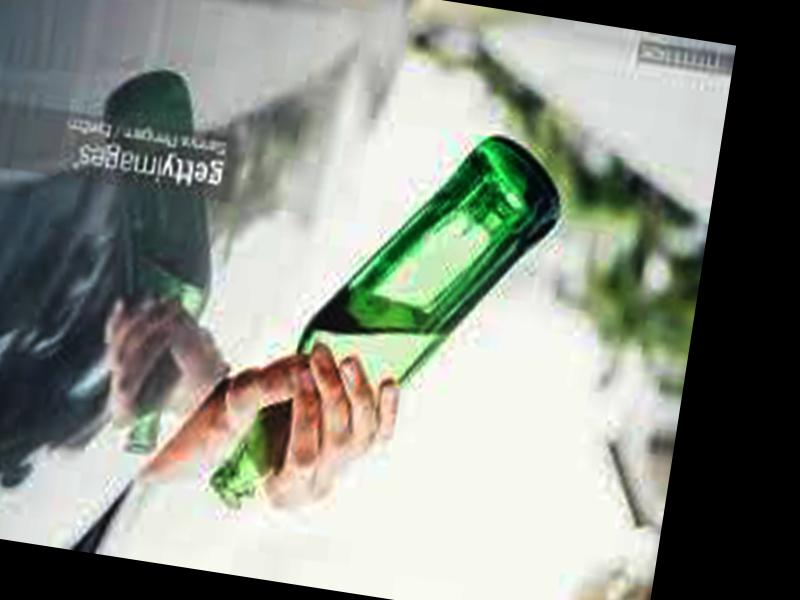Beer: (203, 98, 567, 546)
